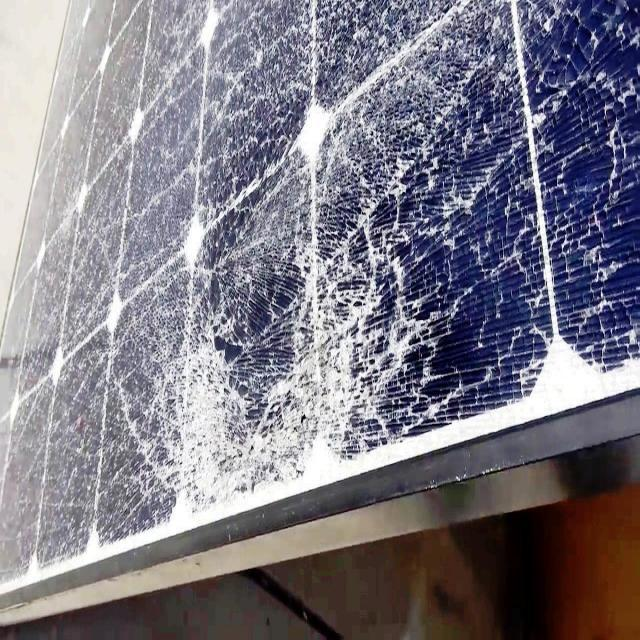faulty: (1, 2, 640, 592)
